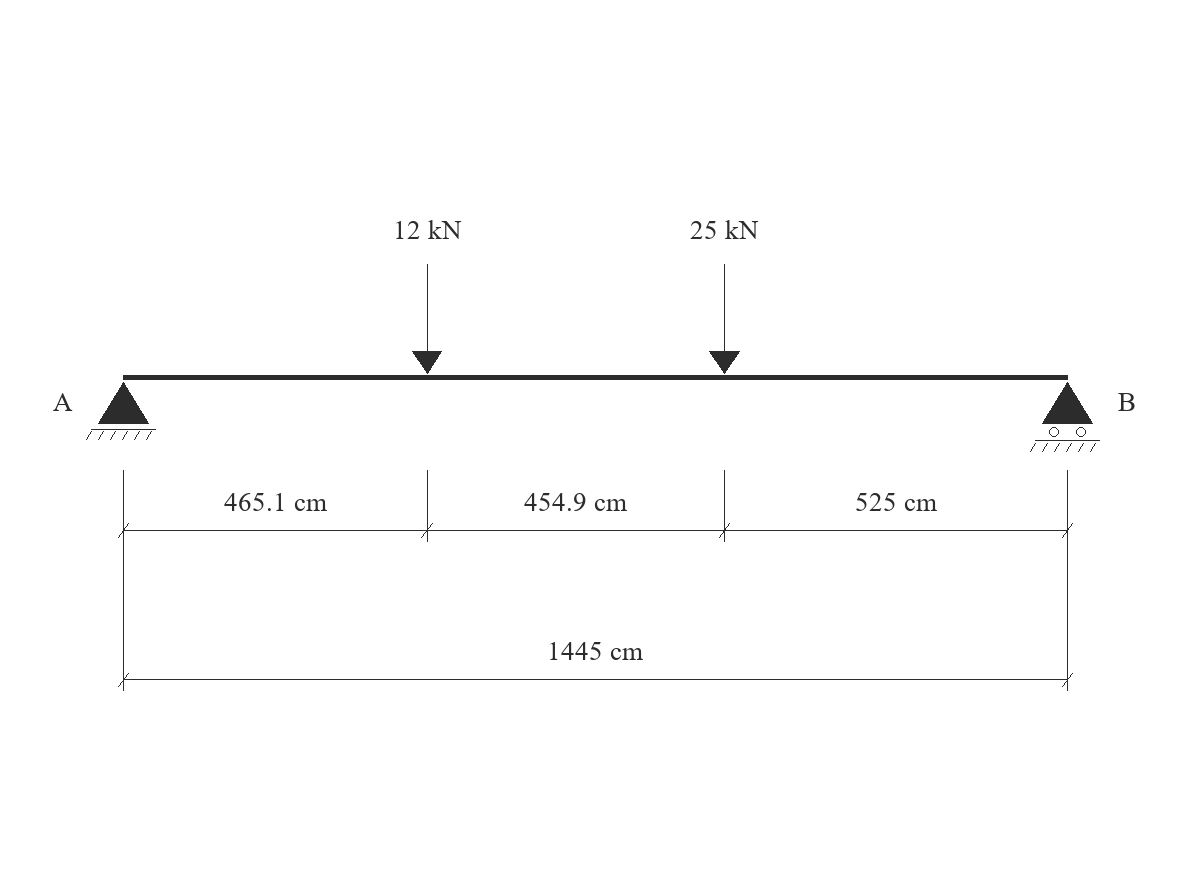pin_support: (86, 382, 156, 440)
point_load: (709, 264, 740, 374), (412, 264, 442, 374)
roller_support: (1030, 382, 1100, 452)
